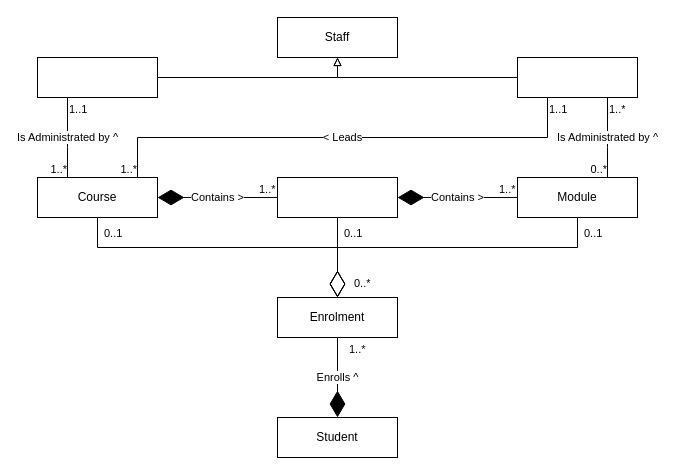
This 675x475 diagram has some shape labels left out. The shapes that lost their labels are listed below. From the top down, each one's box as (x1, y1, x2, y2) in pixels, then its label:
(36, 56, 158, 98): Administrator
(516, 56, 638, 98): Lecturer
(276, 176, 398, 218): Course Level
